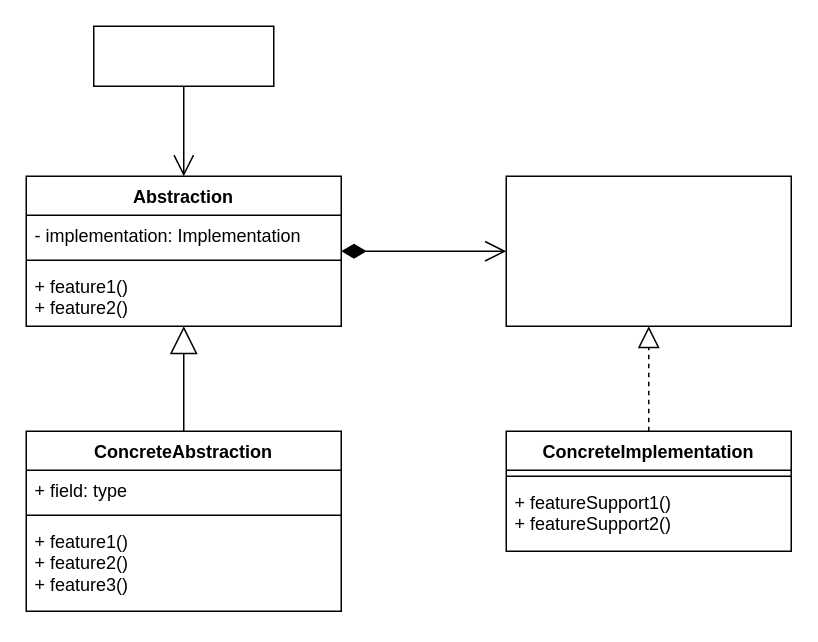
The diagram is 818 pixels wide and 642 high, and some of its shapes have lost their labels. Each missing label, with the centre of its shape:
"<<Interface>> Implementation + featureSupport1() + featureSupport2()" goes at point (648, 250).
"Client" goes at point (183, 55).
